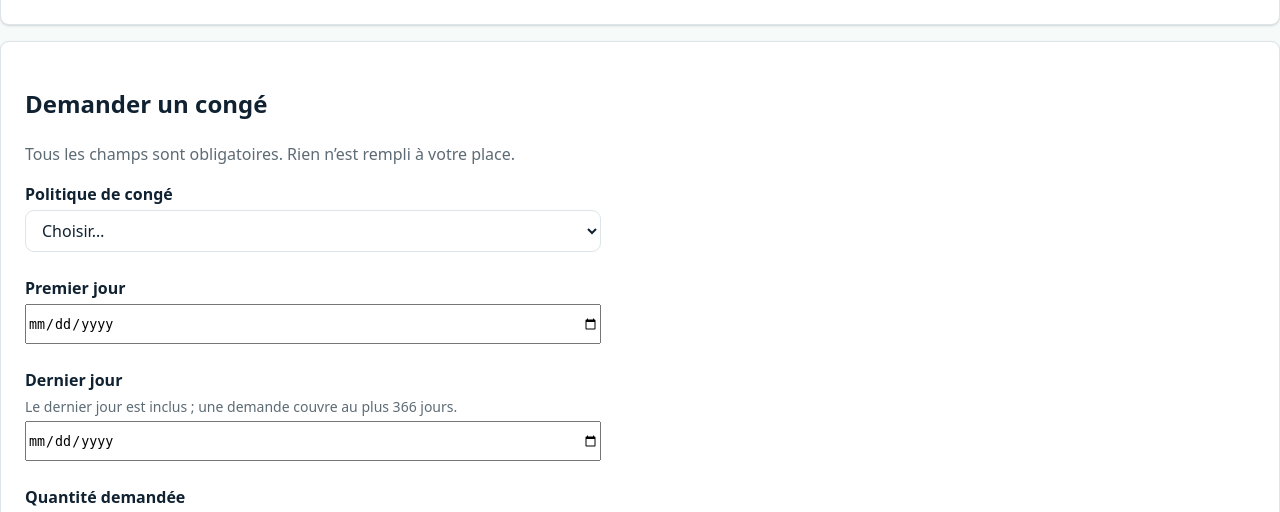
MVP-041A my leave (fr) › shows the not eligible (employment) state with its stable message
(page scrolled)
Select "Congé annuel (ANNUAL)" in the dropdown labelled "Politique de congé": (313, 231) [25,210,601,252]
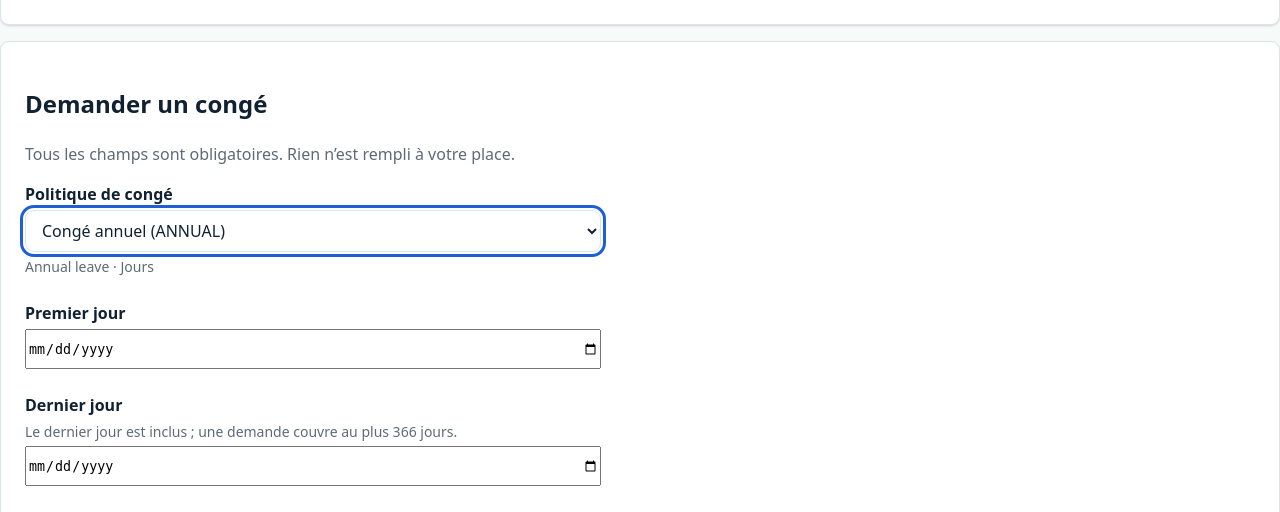
In the date field labelled "Premier jour": (313, 349) [25,329,601,369], type "2026-10-20"
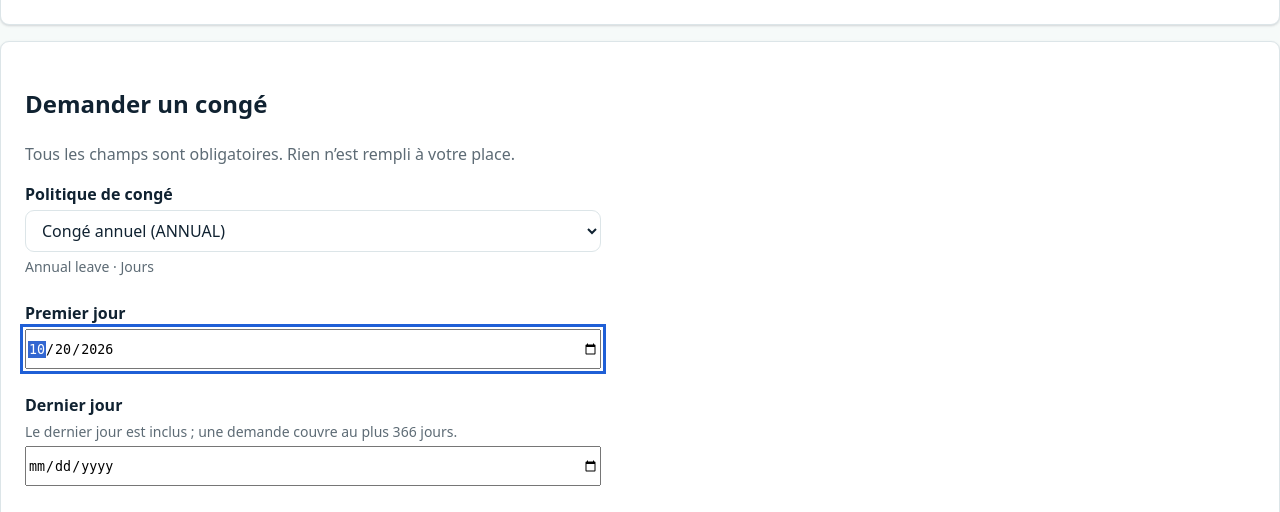
In the date field labelled "Dernier jour": (313, 466) [25,446,601,486], type "2026-10-22"
(page scrolled)
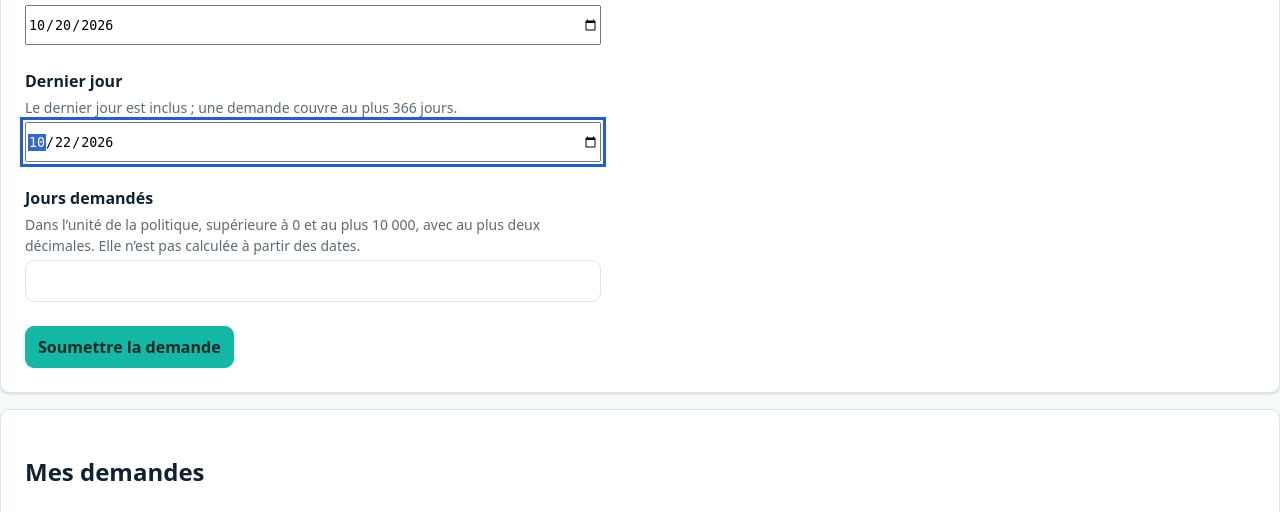
In the field: (313, 281) [25,260,601,302], type "2,5"
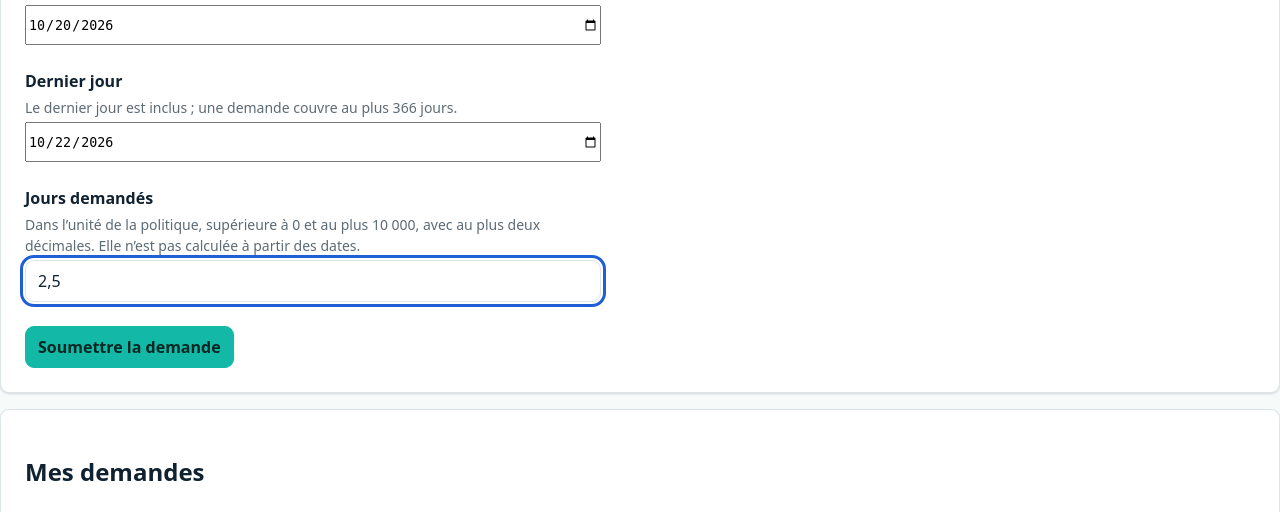
Click the button "Soumettre la demande": (129, 347) [25,326,234,368]
(page scrolled)
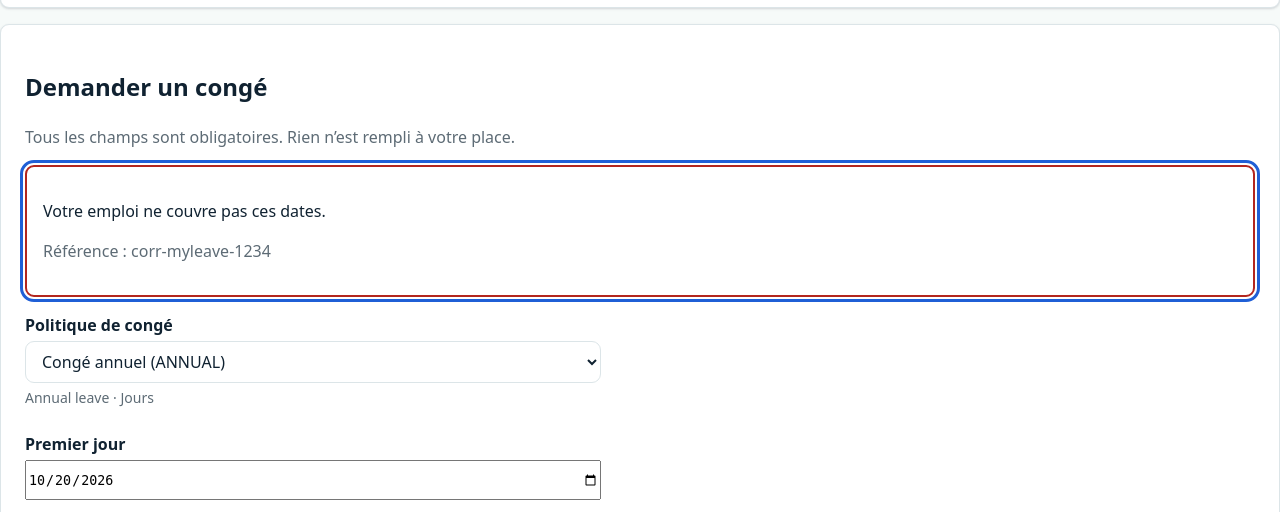
Expected: the message with test id "request-error" does not show "<b>", [25,165,1255,297]
Result: the message with test id "request-error" shows "Votre emploi ne couvre pas ces dates." at [43,200,326,222]
Result: the message with test id "request-error" shows "corr-myleave-1234" at [43,240,271,262]
